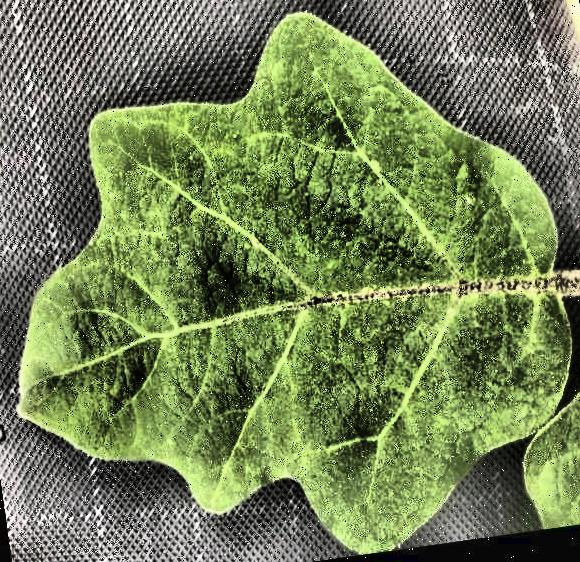HEALTHY: (0, 1, 580, 562)
